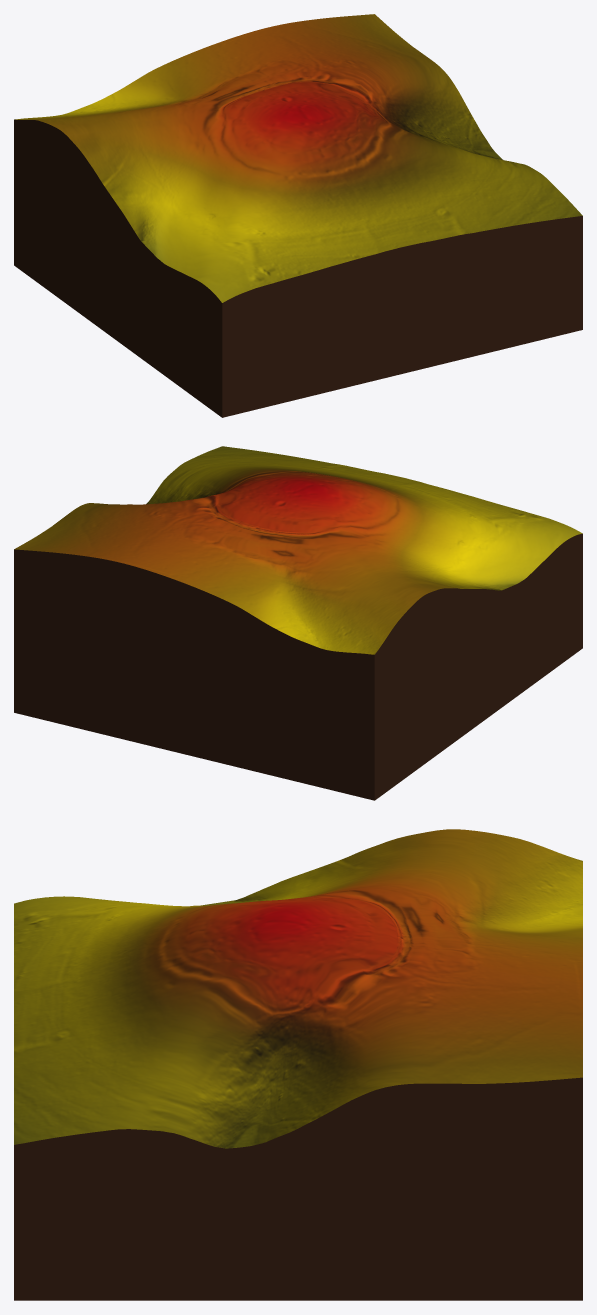
File: caburn.glb
3 renders of one model, top to bottom at view 1: azimuth 30°, elevation 25°; view 2: azimuth 150°, elevation 25°; view 3: azimuth 270°, elevation 25°, orthographic. The views are drawn at different scales.
Parts seen in each view (by area): view 1: Cube.002; view 2: Cube.002; view 3: Cube.002.
Boxes of the visible parts, x1,y1,x2,y2 form: Cube.002: (14, 14, 582, 417); Cube.002: (14, 446, 582, 800); Cube.002: (14, 829, 582, 1300).
Bounding box in the file's own units: 43.44 × 21.75 × 43.44.
Materials: 2 (1 with a texture image).
